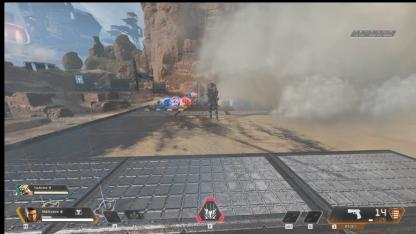Target: (206, 82, 219, 121)
